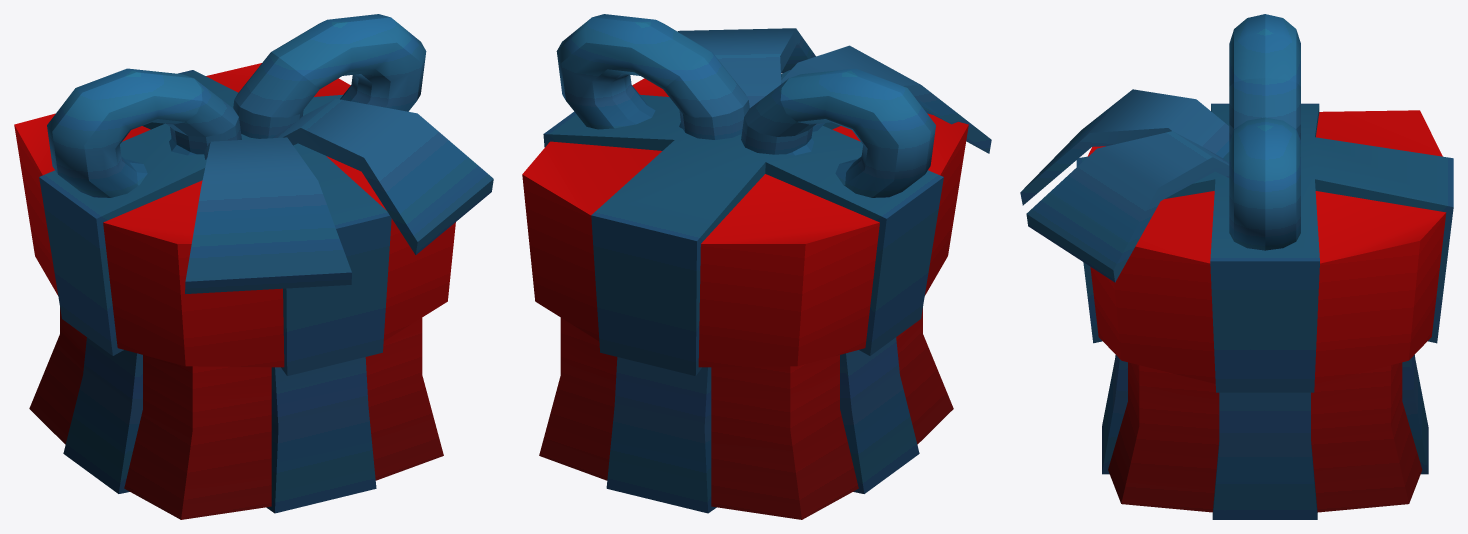
File: SM_Present.fbx
3 views of the same model, side by side, from view 1: azimuth 30°, elevation 25°; view 2: azimuth 150°, elevation 25°; view 3: azimuth 270°, elevation 25° (orthographic). The views are drawn at different scales.
Parts seen in each view (by area): view 1: SM_Present; view 2: SM_Present; view 3: SM_Present.
Boxes of the visible parts, <box> form: SM_Present: <box>14,14,493,519</box>; SM_Present: <box>522,14,991,519</box>; SM_Present: <box>1020,14,1453,519</box>.
Bounding box in the file's own units: 89.56 × 92.11 × 96.15.
